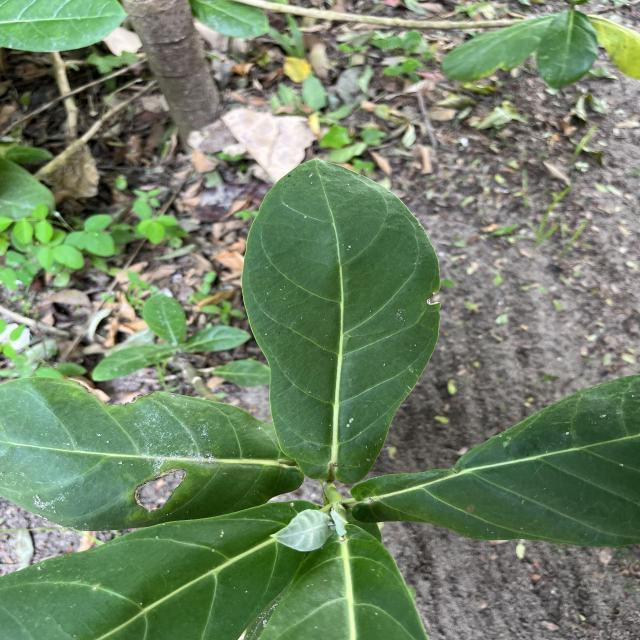Calotropis gigantea: (238, 154, 444, 486), (349, 372, 640, 551), (5, 373, 309, 534), (0, 499, 326, 640)
